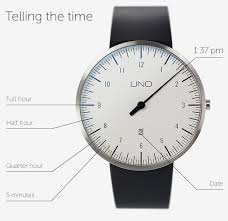clock: (79, 45, 202, 167)
